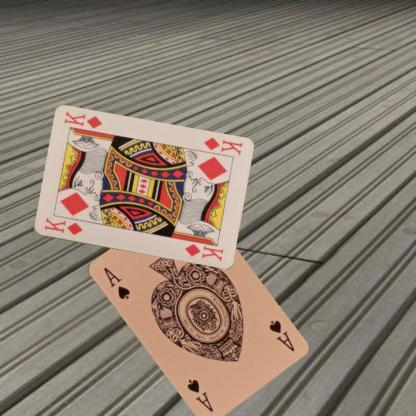As: (101, 265, 131, 301), (266, 317, 296, 353)
Kd: (41, 215, 84, 237), (201, 135, 243, 157)
